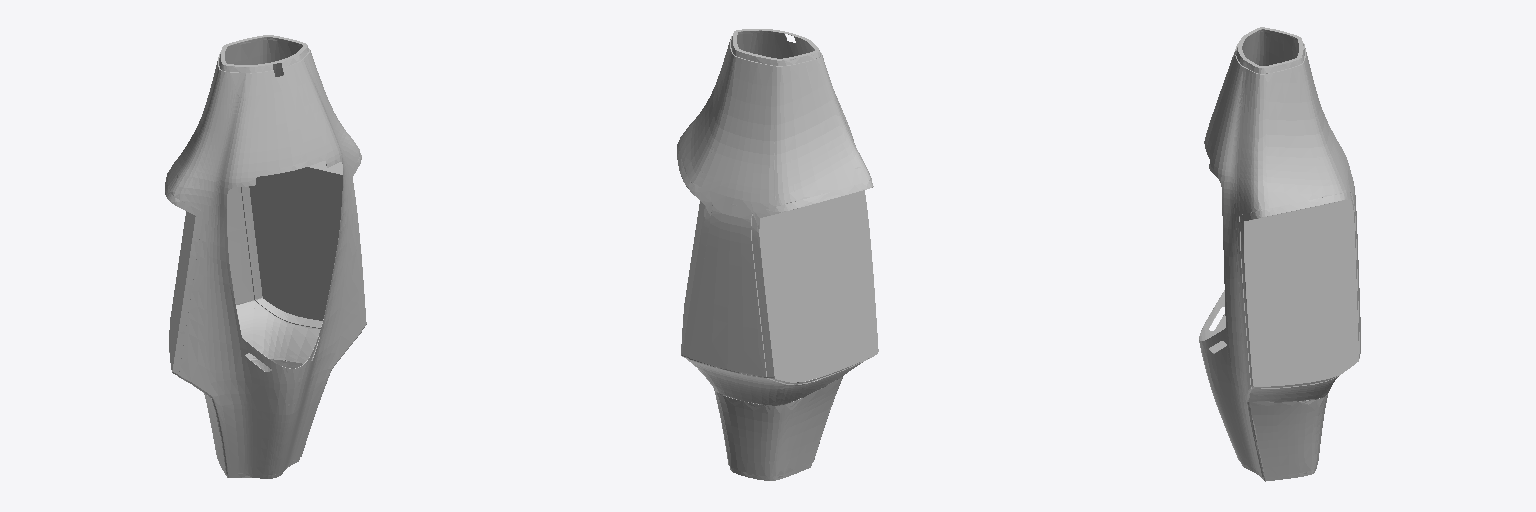
Rendered from Mono_optimized3.obj.
3 views of the same model, side by side, from view 1: azimuth 30°, elevation 25°; view 2: azimuth 150°, elevation 25°; view 3: azimuth 270°, elevation 25° (orthographic).
Parts seen in each view (by area): view 1: 11m outer skin 0.9 thick; view 2: 11m outer skin 0.9 thick; view 3: 11m outer skin 0.9 thick.
Boxes of the visible parts, <box> form: 11m outer skin 0.9 thick: <box>165,35,366,478</box>; 11m outer skin 0.9 thick: <box>677,29,878,480</box>; 11m outer skin 0.9 thick: <box>1199,27,1360,481</box>.
Size of the model in its own units: 0.9925 by 2.03 by 0.7183.